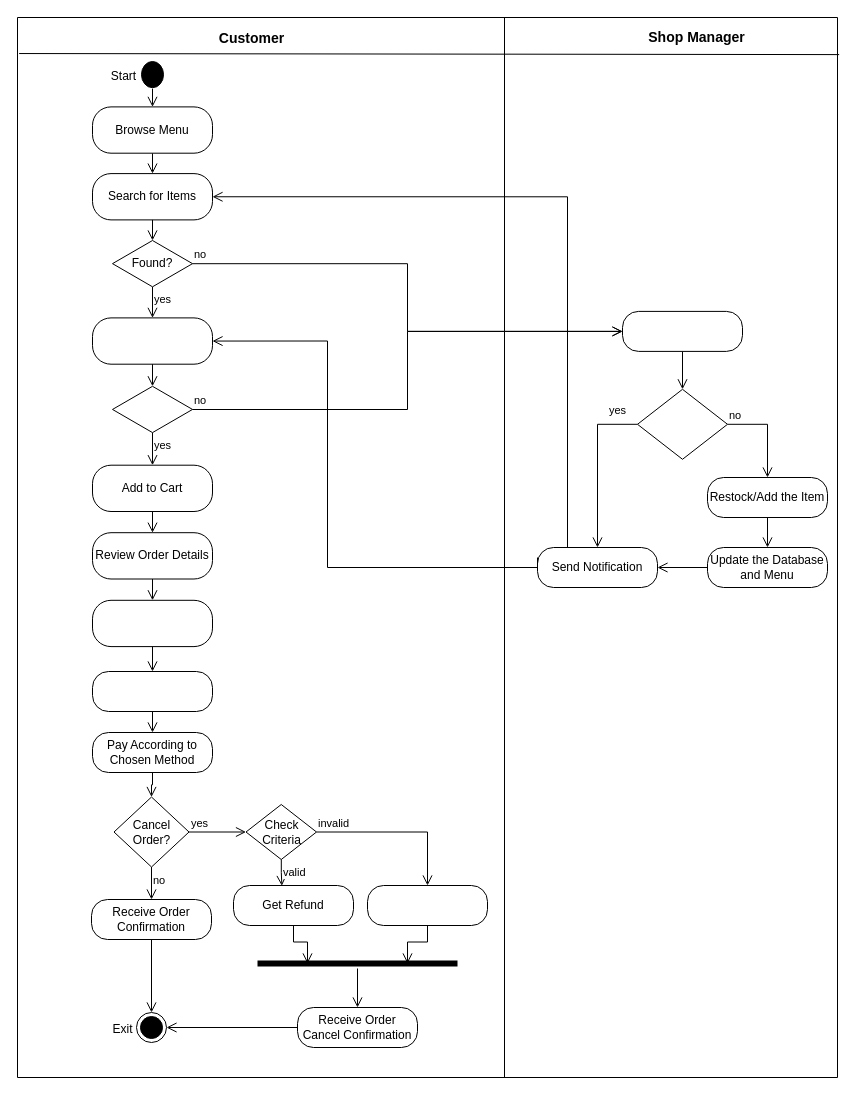
This 858x1096 diagram has some shape labels left out. Here are the shapes that lost their labels. From the top down, the box of each, then its label:
(92, 317, 212, 364): Select Item
(622, 310, 742, 351): Get Notified
(112, 385, 192, 433): Available?
(636, 388, 728, 459): Check Availability
(92, 599, 212, 647): Provide Delivery Address
(92, 670, 212, 712): Choose Payment Method
(366, 884, 488, 926): Pay Fine
